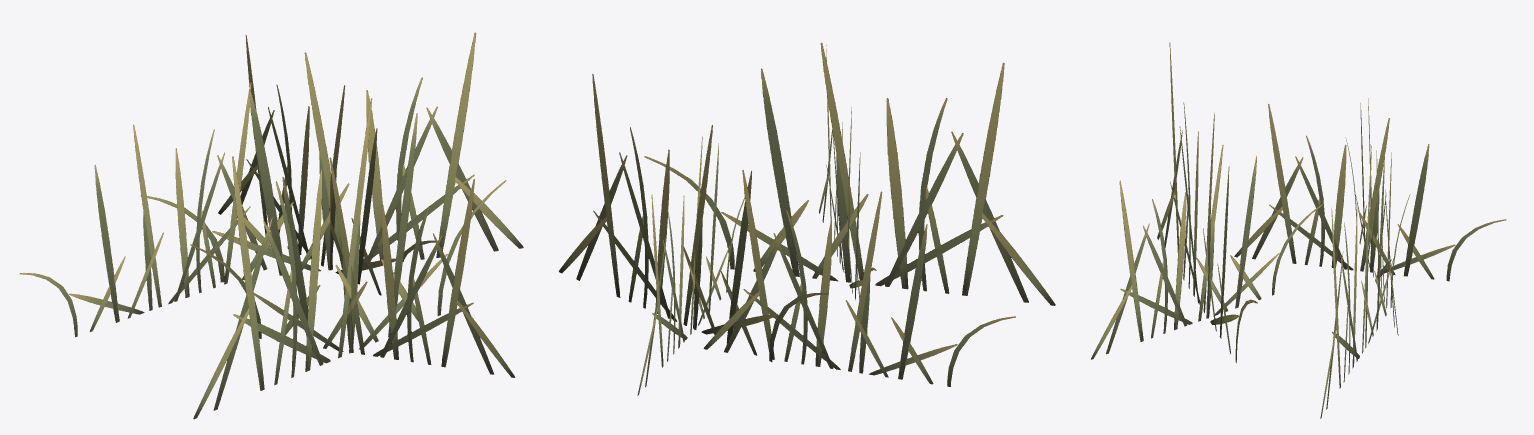
The model's file is Grass_Dead_Test.fbx.
3 views of the same model, side by side, from view 1: azimuth 30°, elevation 25°; view 2: azimuth 150°, elevation 25°; view 3: azimuth 270°, elevation 25° (orthographic). The views are drawn at different scales.
Parts seen in each view (by area): view 1: Grass_Dead; view 2: Grass_Dead; view 3: Grass_Dead.
Boxes of the visible parts, x1,y1,x2,y2 form: Grass_Dead: [19, 32, 523, 419]; Grass_Dead: [559, 42, 1055, 395]; Grass_Dead: [1091, 42, 1506, 418].
Size of the model in its own units: 36.1 by 17.58 by 30.82.
